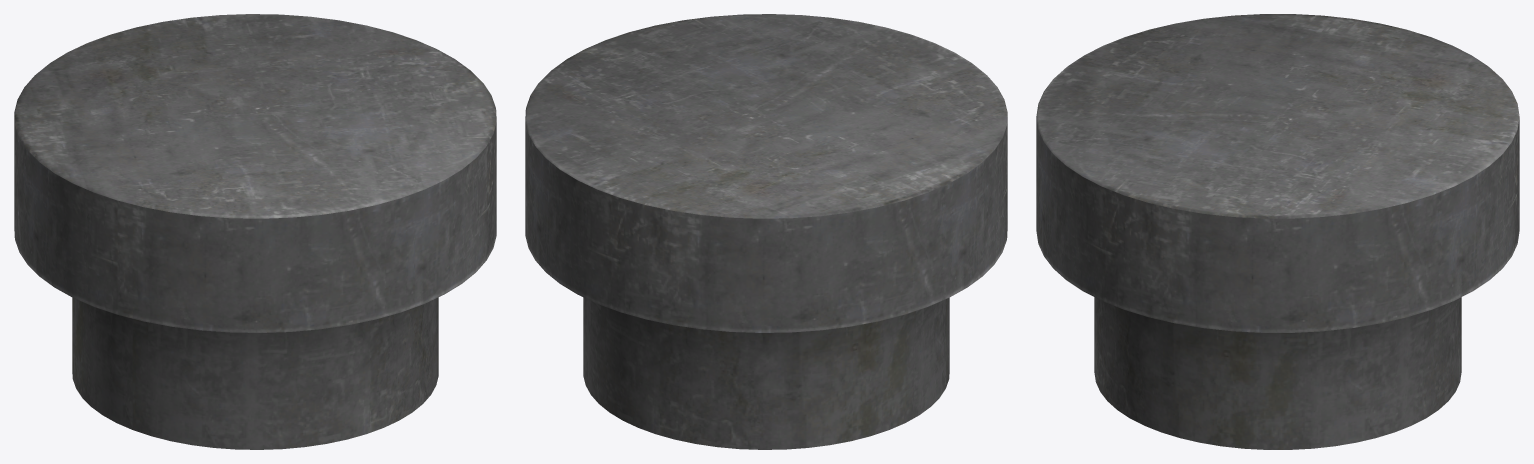
The model's file is 05_02_table.dae.
3 views of the same model, side by side, from view 1: azimuth 30°, elevation 25°; view 2: azimuth 150°, elevation 25°; view 3: azimuth 270°, elevation 25° (orthographic).
Parts seen in each view (by area): view 1: Mesh; view 2: Mesh; view 3: Mesh.
Boxes of the visible parts, left/top/right/bottom form: Mesh: left=14, top=14, right=496, bottom=449; Mesh: left=525, top=14, right=1007, bottom=449; Mesh: left=1036, top=14, right=1519, bottom=449.
Size of the model in its own units: 0.5363 by 0.3158 by 0.5374.
